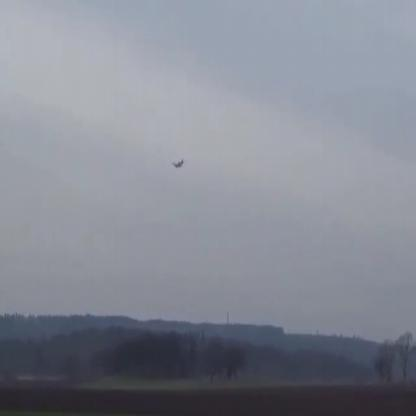CIV_Plane: (172, 153, 188, 174)
